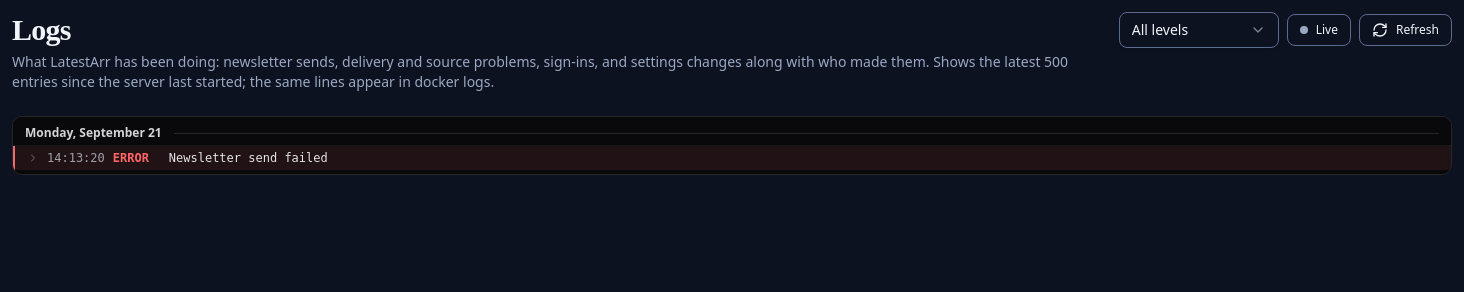
Test: LogsPage › expands Details to show the raw entry, e.g. an error's type/message
Expected: the text "Newsletter send failed" is shown, [169,151,328,165]
Expected: the text "Could not reach the SMTP server" is not shown
Click the button "14:13:20 error Newsletter send failed": point(76, 158) [27,146,1439,170]
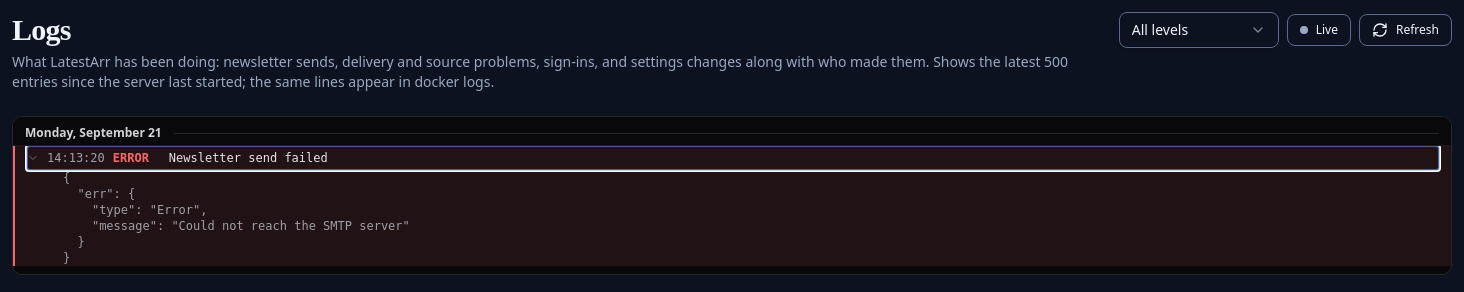
Result: the button "14:13:20 error Newsletter send failed" is expanded at [27,146,1439,170]
Result: the text "Could not reach the SMTP server" is shown at [63,171,410,265]
